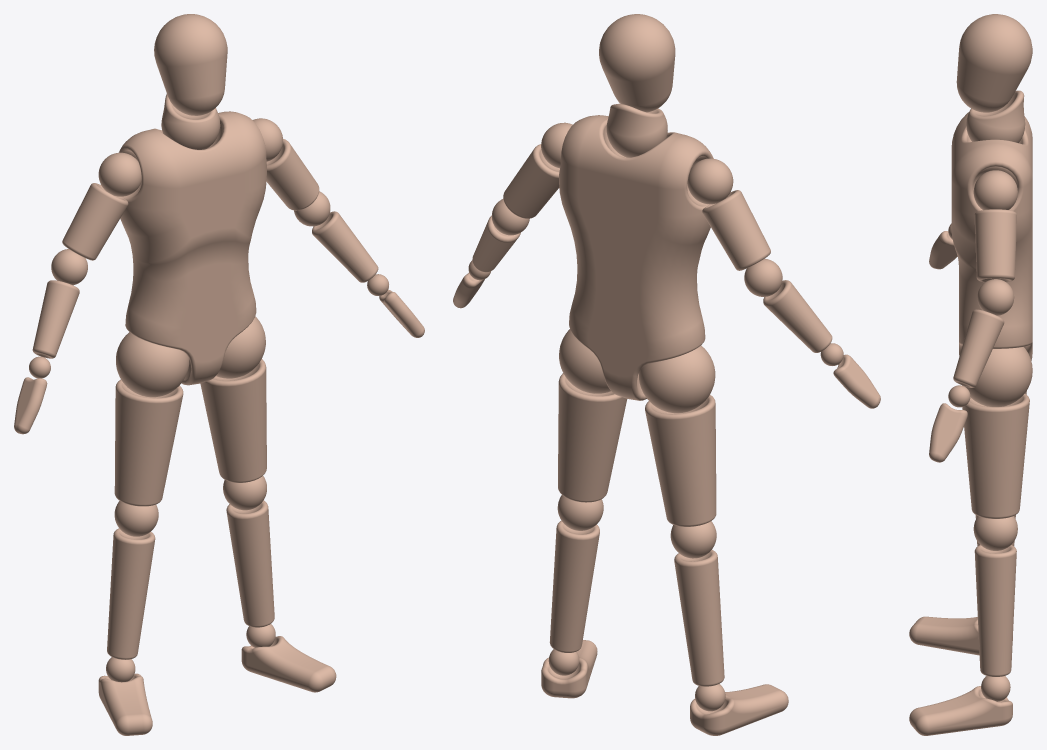
The model's file is Body-transformed.glb.
The picture shows the model from 3 angles, left to right: view 1: azimuth 30°, elevation 25°; view 2: azimuth 150°, elevation 25°; view 3: azimuth 270°, elevation 25°; orthographic projection. The views are drawn at different scales.
Visible parts, largest first — view 1: human doll; view 2: human doll; view 3: human doll.
Part boxes in pixels (left/top/right/bottom): human doll: left=14, top=14, right=424, bottom=735; human doll: left=453, top=14, right=880, bottom=735; human doll: left=909, top=14, right=1032, bottom=735.
Size of the model in its own units: 0.6393 by 0.9998 by 0.1672.
